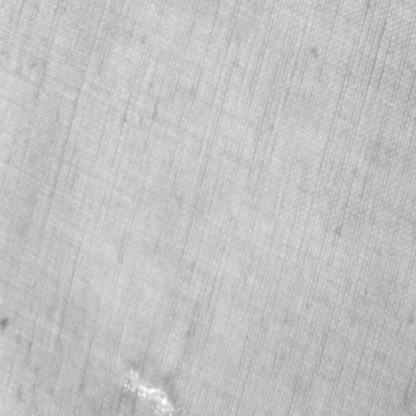hole: (122, 366, 175, 415)
